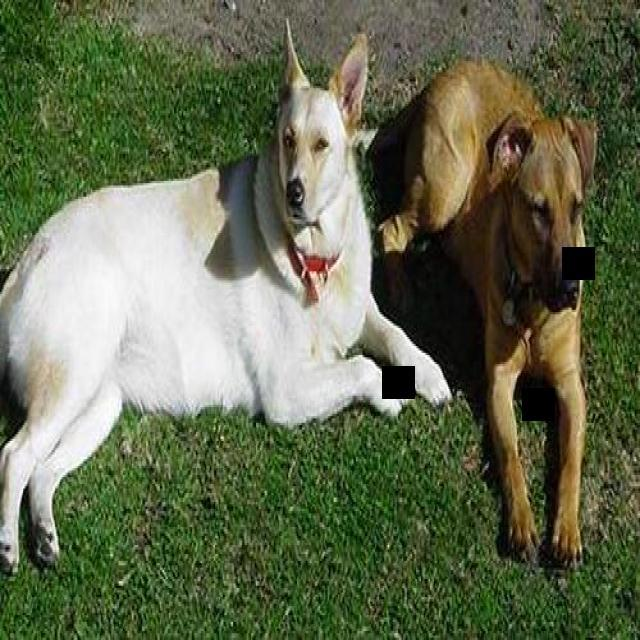adult_dog: (0, 21, 454, 577), (369, 56, 600, 571)
